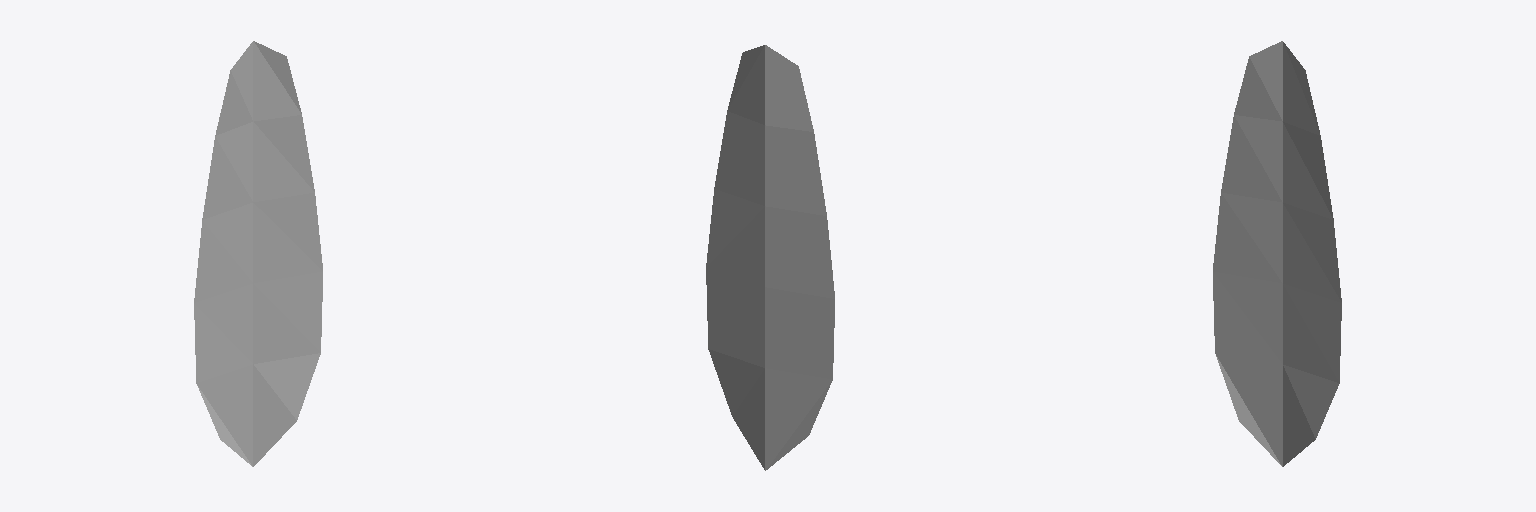
File: quail_feather_flight_tertiary_050.obj
3 views of the same model, side by side, from view 1: azimuth 30°, elevation 25°; view 2: azimuth 150°, elevation 25°; view 3: azimuth 330°, elevation 25° (orthographic).
Parts seen in each view (by area): view 1: feather_flight_tertiary_050; view 2: feather_flight_tertiary_050; view 3: feather_flight_tertiary_050.
Boxes of the visible parts, x1=… form: feather_flight_tertiary_050: x1=194, y1=41, x2=322, y2=466; feather_flight_tertiary_050: x1=706, y1=45, x2=834, y2=470; feather_flight_tertiary_050: x1=1213, y1=41, x2=1341, y2=466.
Size of the model in its own units: 0.0033 by 0.0104 by 0.0002.